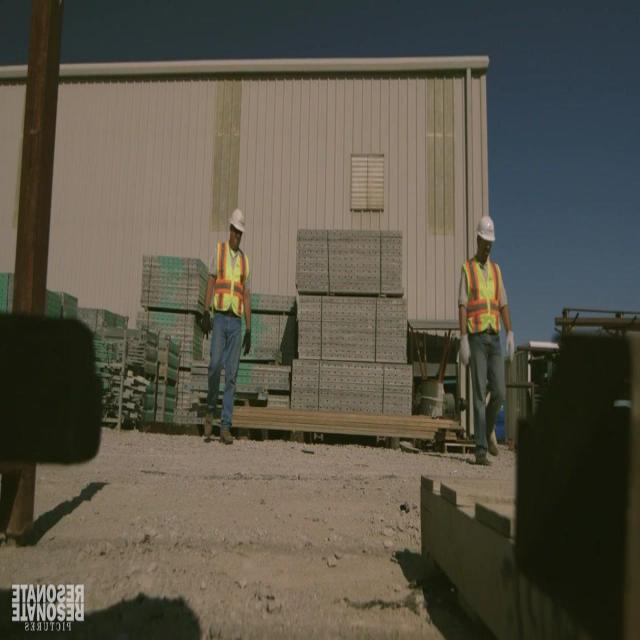Reflective-Jacket: (450, 254, 514, 354), (202, 240, 255, 327)
Safety-Helmet: (472, 206, 502, 252), (224, 199, 251, 242)
